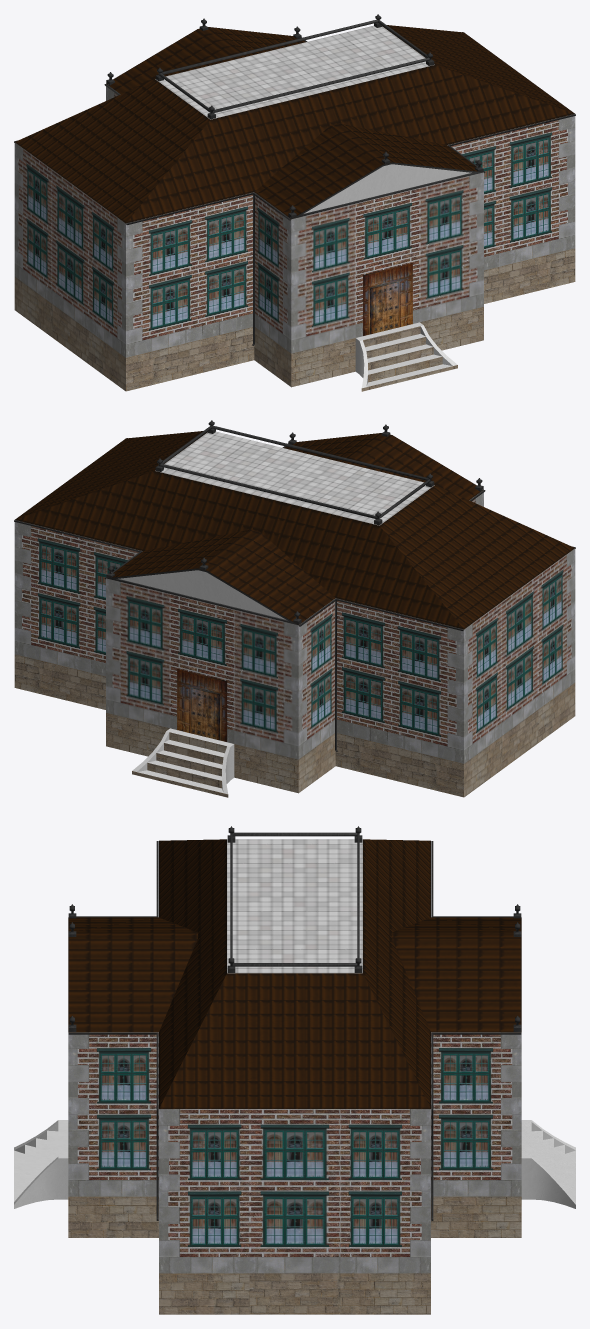
The model's file is HouseMansion.dae.
3 views of the same model, one above another, from view 1: azimuth 30°, elevation 25°; view 2: azimuth 150°, elevation 25°; view 3: azimuth 270°, elevation 25° (orthographic). The views are drawn at different scales.
Parts seen in each view (by area): view 1: HouseMansion; view 2: HouseMansion; view 3: HouseMansion.
Part boxes in pixels (x1,y1,x2,y2): HouseMansion: [14, 14, 575, 391]; HouseMansion: [14, 420, 575, 797]; HouseMansion: [14, 826, 575, 1314].
Size of the model in its own units: 168 by 149 by 84.28.
